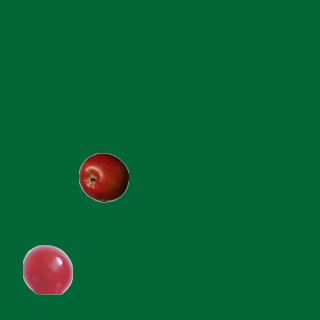Apple Braeburn: (78, 152, 128, 202)
Redcurrant: (22, 244, 72, 294)
